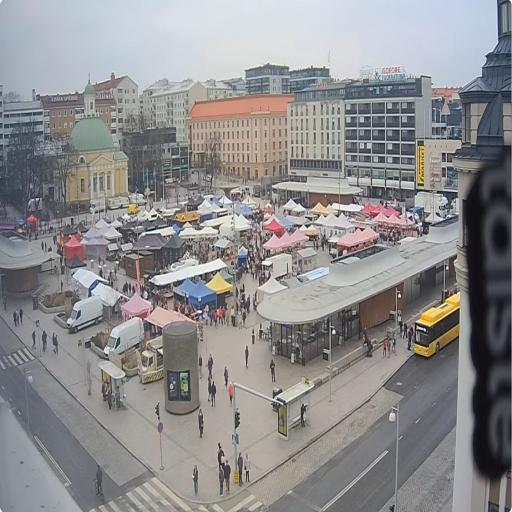bus: (414, 293, 460, 357)
delivery: (104, 318, 144, 358), (67, 297, 102, 332), (138, 337, 163, 383)
